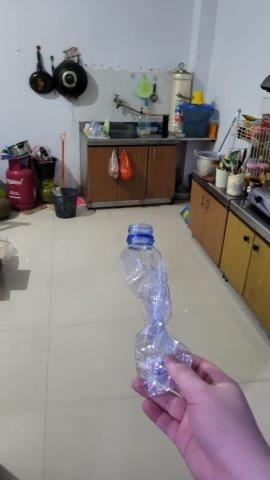botolplastik: (120, 222, 196, 392)
